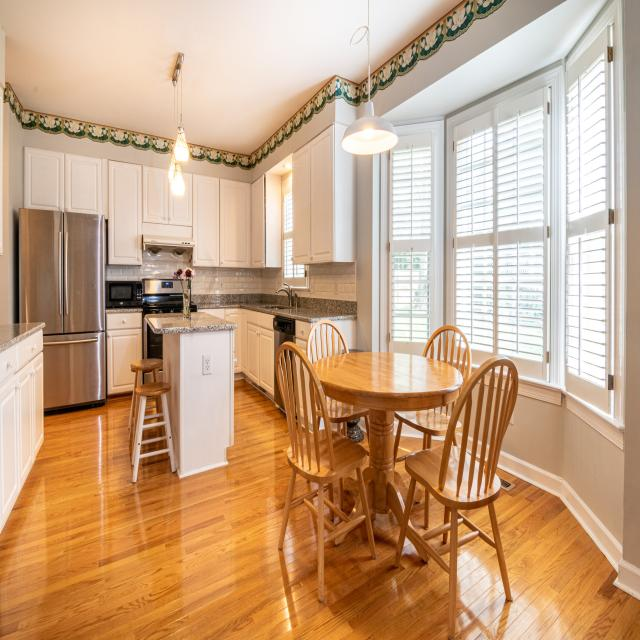Appliance_Fridge: (19, 208, 107, 412)
Appliance_Microwave: (106, 281, 142, 309)
Appliance_Oven: (143, 278, 198, 316), (147, 326, 163, 360)
Cabinet_Flat: (0, 330, 42, 382), (244, 311, 274, 330), (107, 313, 141, 329), (296, 321, 313, 348)
Cabinet_Raised_Panel: (25, 148, 264, 267), (0, 353, 44, 534), (293, 131, 335, 265), (226, 309, 274, 401), (107, 328, 143, 396)
Countertop_Granite: (200, 304, 356, 321), (146, 312, 238, 335), (0, 323, 44, 353), (107, 307, 141, 312)
